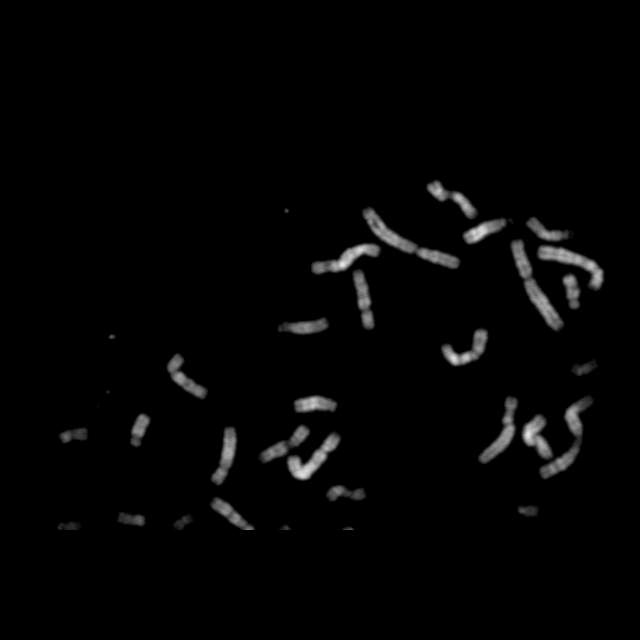chromosome: (362, 207, 460, 269), (510, 241, 562, 331), (540, 396, 594, 478), (538, 244, 602, 290), (288, 432, 340, 480), (310, 242, 380, 276), (167, 354, 208, 401), (476, 418, 516, 466), (428, 180, 478, 218), (260, 426, 308, 462), (441, 329, 487, 366), (211, 426, 237, 484), (210, 498, 254, 530), (352, 272, 374, 328), (523, 416, 551, 458), (464, 218, 506, 244), (526, 217, 570, 241), (277, 317, 328, 335), (294, 394, 336, 414), (131, 414, 151, 448), (326, 485, 366, 501), (563, 276, 579, 308), (570, 361, 596, 379), (502, 396, 518, 424), (117, 512, 145, 526), (61, 428, 89, 442), (174, 514, 190, 530), (56, 522, 79, 532)
